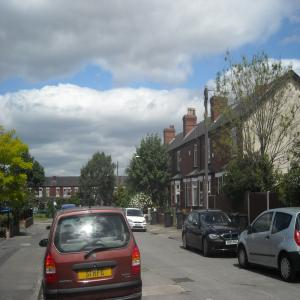Vehicle-registration-plate: (79, 267, 112, 279), (227, 241, 239, 247)
